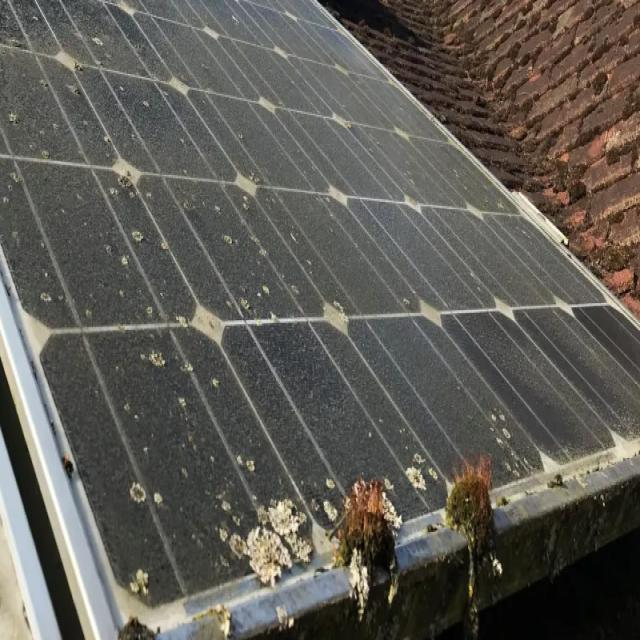dust-solar-panel: (1, 0, 640, 628)
